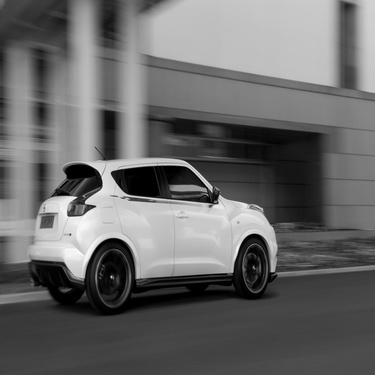car: (28, 138, 283, 319)
